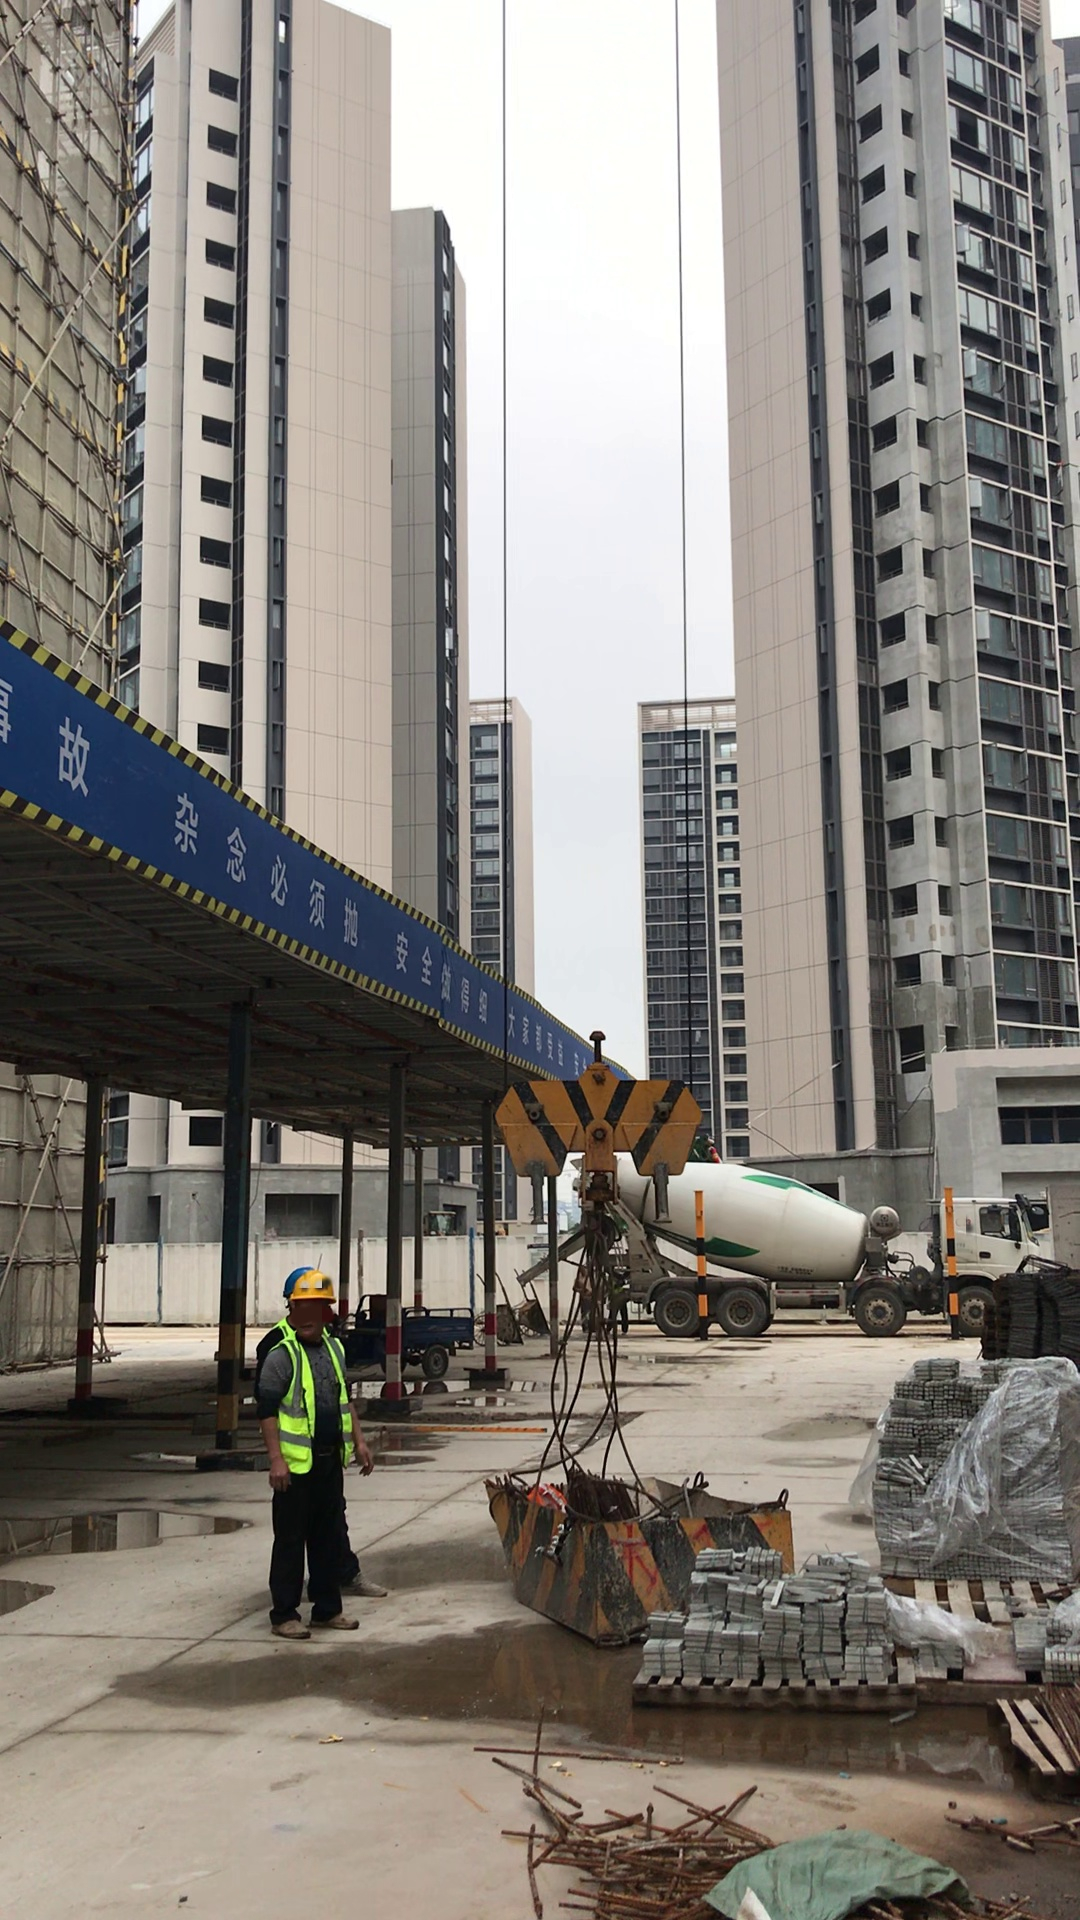helmet: (286, 1261, 355, 1306)
hook: (498, 1025, 691, 1194)
person: (261, 1269, 359, 1655)
slogan: (16, 644, 592, 1075)
vest: (263, 1319, 360, 1463)
